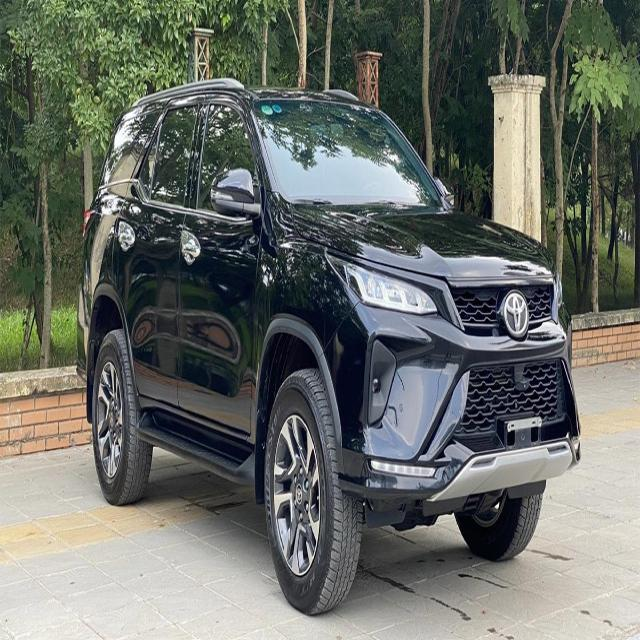light_vehicle: (76, 75, 581, 615)
